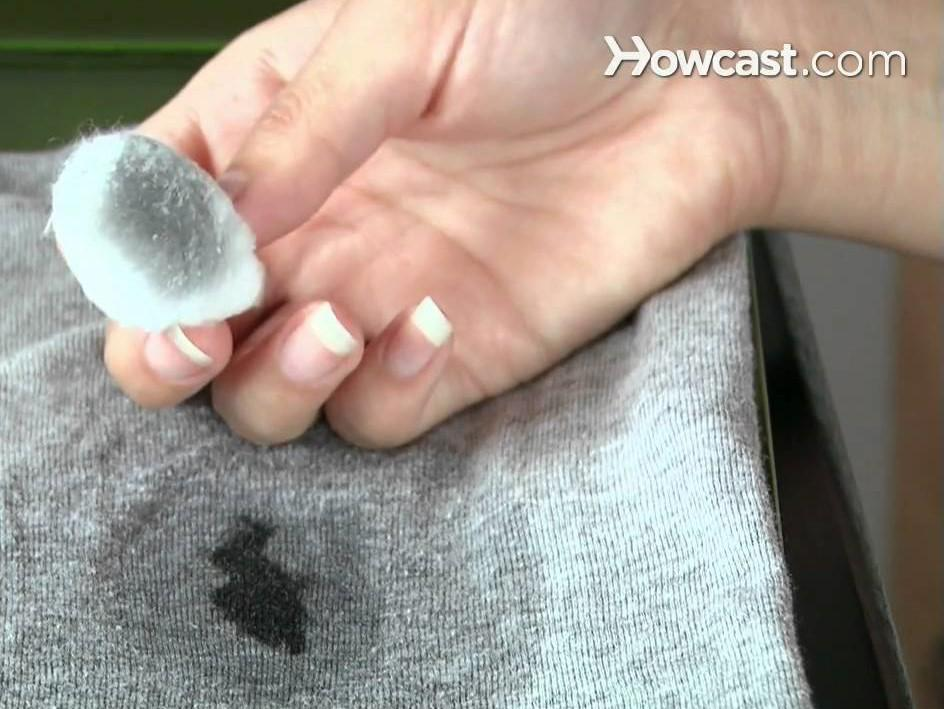gun: (190, 500, 339, 653)
